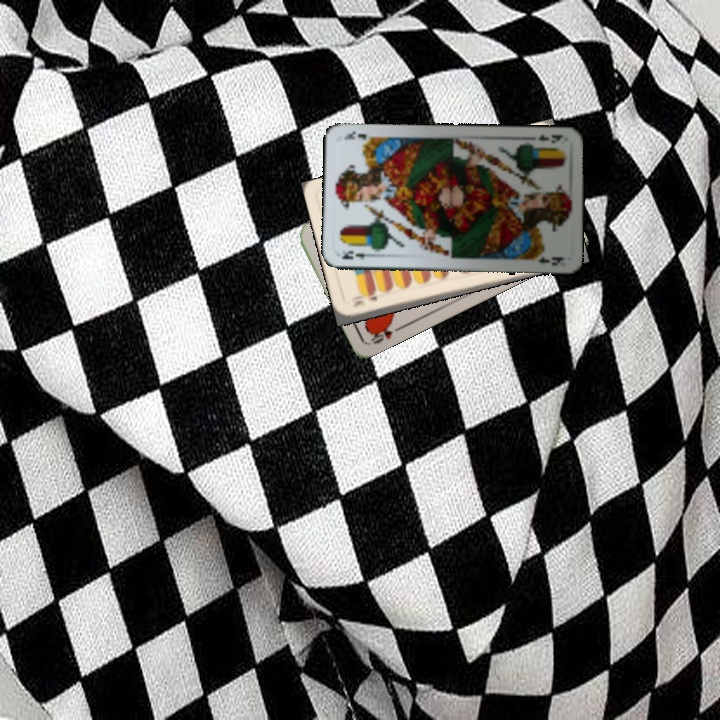E10: (349, 292, 380, 310)
EK: (338, 246, 377, 262), (528, 130, 565, 146)
HO: (366, 319, 404, 347)
